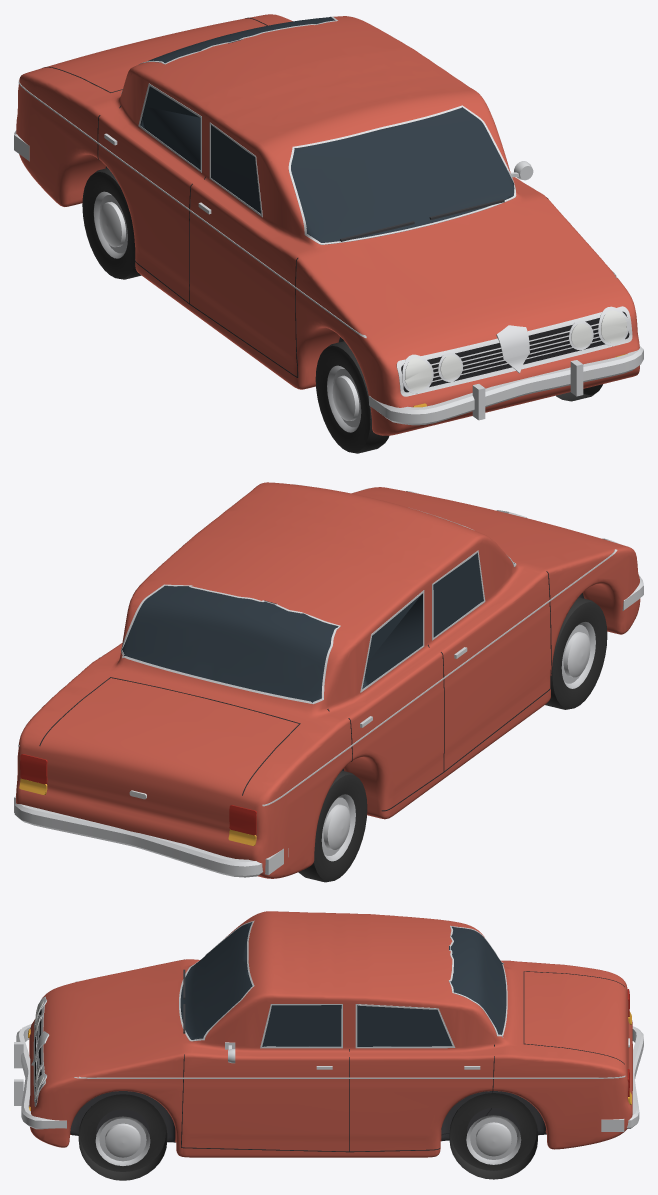
Rendered from giulia.glb.
3 views of the same model, one above another, from view 1: azimuth 30°, elevation 25°; view 2: azimuth 150°, elevation 25°; view 3: azimuth 270°, elevation 25° (orthographic). The views are drawn at different scales.
Visible parts, largest first — view 1: paint, glass, trim, wheel_fr, wheel_rr, headlights; view 2: paint, glass, trim, wheel_fr, wheel_rr, taillights; view 3: paint, glass, trim, wheel_fl, wheel_rl.
Part boxes in pixels (x1,y1,x2,y2): paint: [16, 14, 639, 435]; glass: [140, 17, 514, 242]; trim: [14, 16, 643, 425]; wheel_fr: [315, 341, 389, 453]; wheel_rr: [82, 168, 141, 279]; headlights: [404, 310, 627, 390]; paint: [16, 482, 640, 878]; glass: [122, 553, 514, 702]; trim: [14, 484, 643, 877]; wheel_fr: [545, 597, 607, 709]; wheel_rr: [298, 770, 367, 882]; taillights: [20, 754, 256, 835]; paint: [29, 911, 632, 1157]; glass: [180, 922, 506, 1046]; trim: [14, 920, 643, 1152]; wheel_fl: [78, 1094, 167, 1180]; wheel_rl: [449, 1093, 537, 1179].
Bounding box in the file's own units: 1.65 × 1.43 × 4.27.
